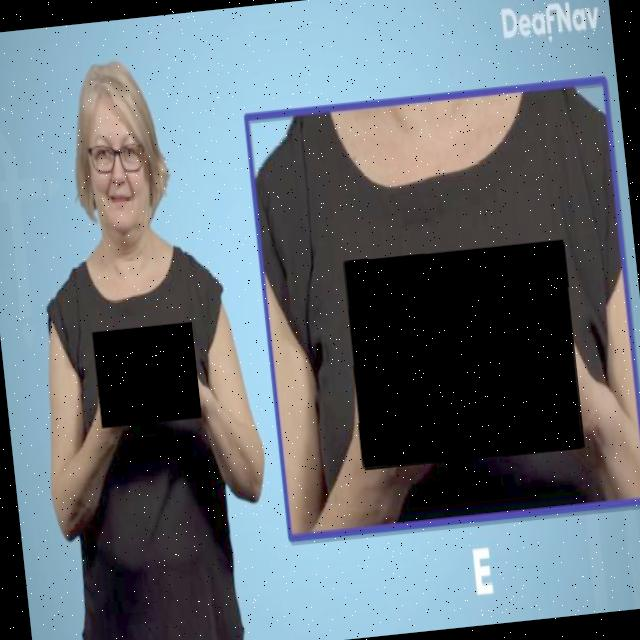E: (343, 239, 587, 472), (93, 324, 203, 431)
